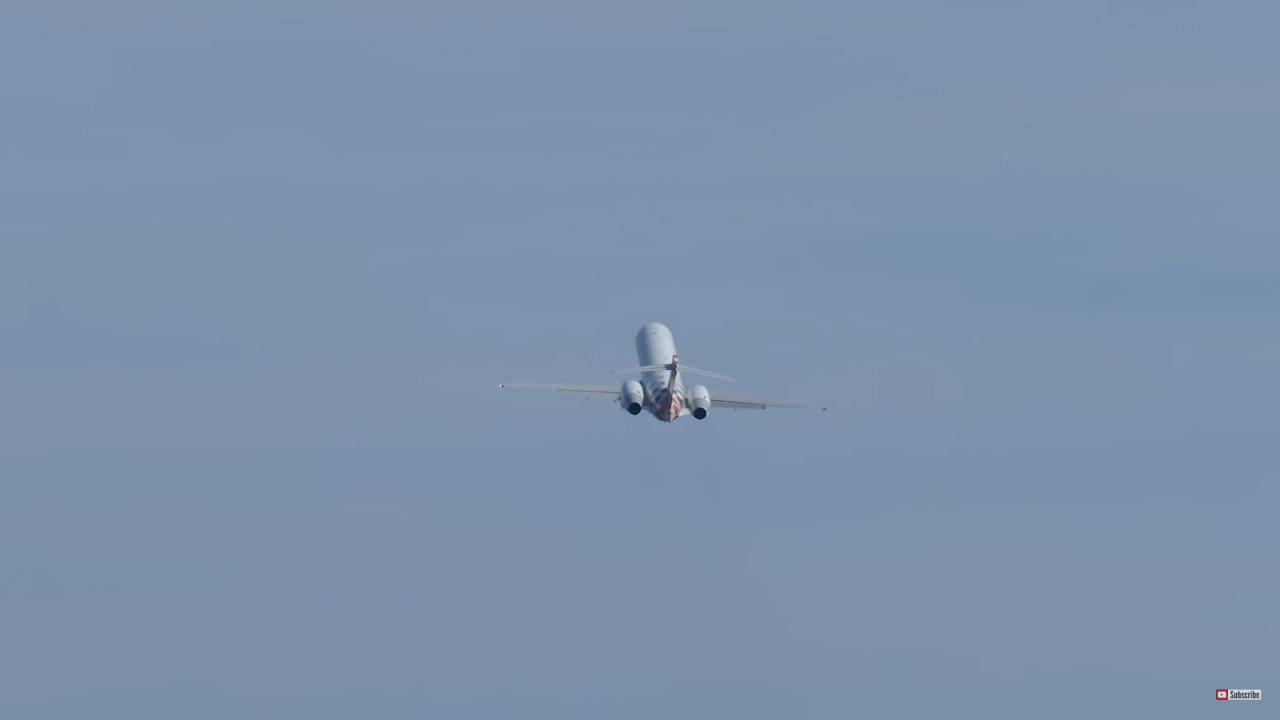Airplane: (485, 310, 830, 438)
